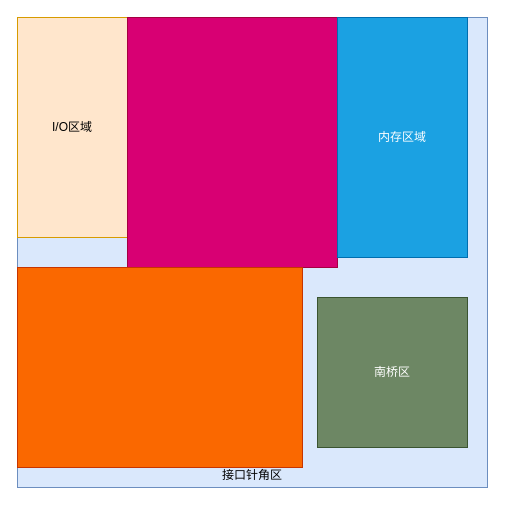
This 505x505 diagram has some shape labels left out. Each missing label, with the box of its shape:
CPU区域: (126, 16, 338, 268)
扩展区: (16, 266, 302, 468)
